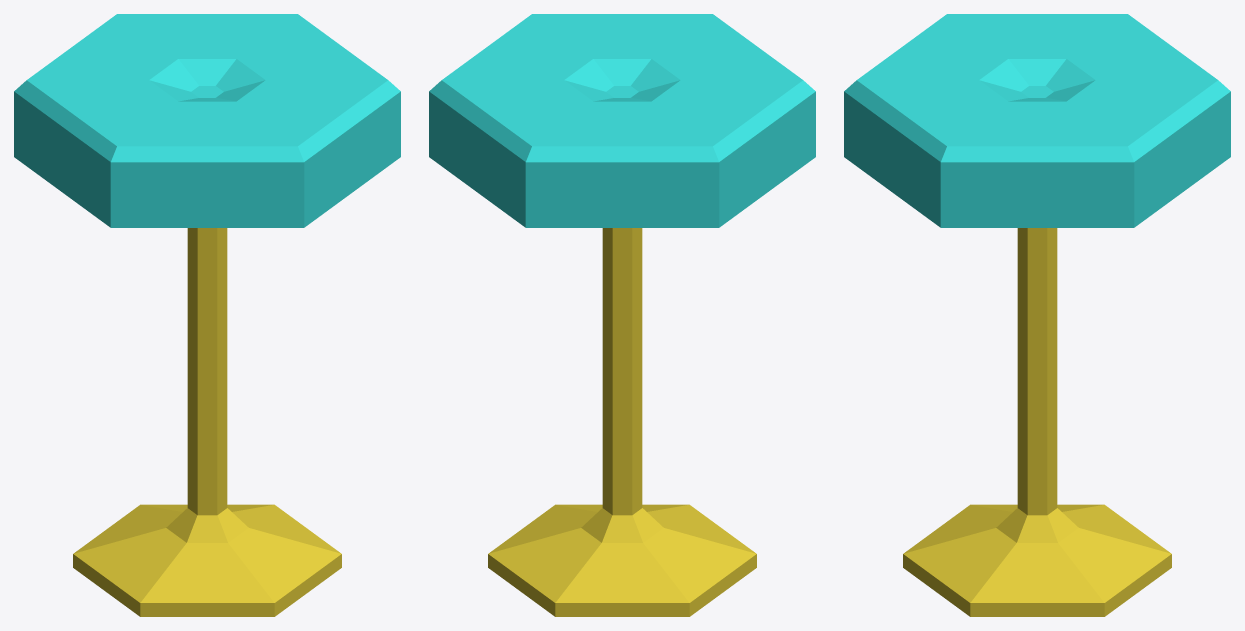
Rendered from Chair_05.fbx.
3 views of the same model, side by side, from view 1: azimuth 30°, elevation 25°; view 2: azimuth 150°, elevation 25°; view 3: azimuth 270°, elevation 25° (orthographic).
Visible parts, largest first — view 1: Chair_05; view 2: Chair_05; view 3: Chair_05.
Part boxes in pixels (x1,y1,x2,y2): Chair_05: (14, 14, 400, 616); Chair_05: (429, 14, 815, 616); Chair_05: (844, 14, 1230, 616).
Bounding box in the file's own units: 39.59 × 63.59 × 45.72.
